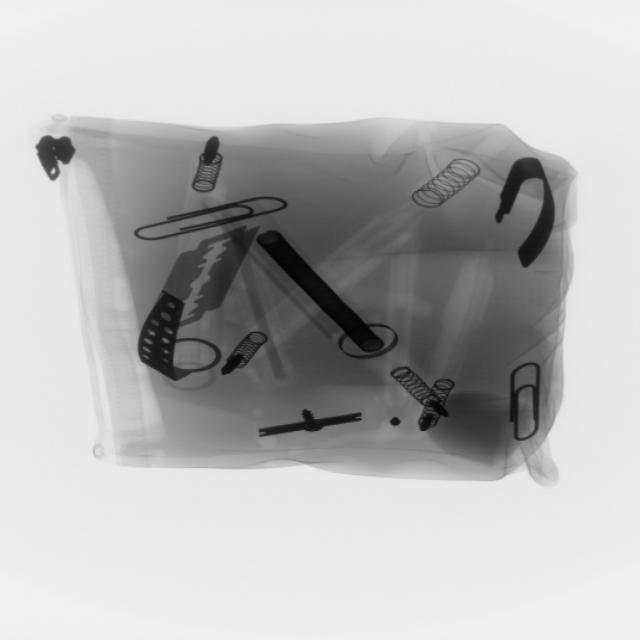BLADE: (158, 226, 258, 336)
